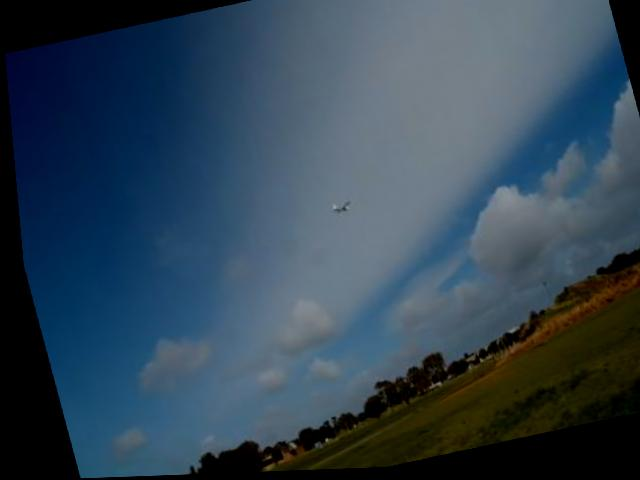uav: (322, 194, 351, 222)
